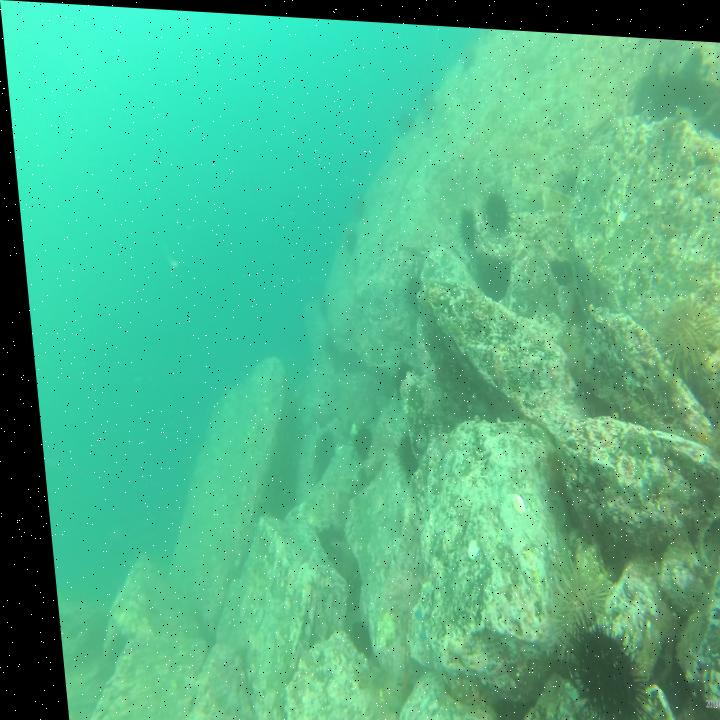echinus: (543, 601, 646, 720), (531, 537, 605, 656), (647, 283, 716, 376), (475, 179, 511, 235), (382, 422, 411, 479), (396, 263, 422, 306), (453, 198, 475, 246), (341, 417, 366, 459), (414, 81, 439, 119), (460, 33, 477, 68), (395, 103, 413, 132), (340, 223, 355, 249), (347, 191, 362, 216)
